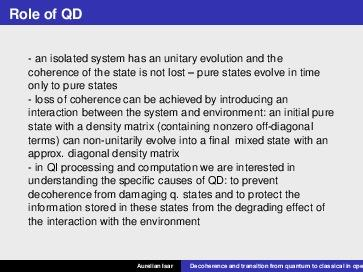paragraph: (21, 46, 340, 234)
title: (6, 4, 86, 25)
